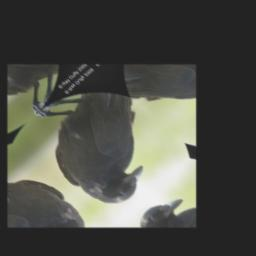Crow: (13, 65, 188, 217)
